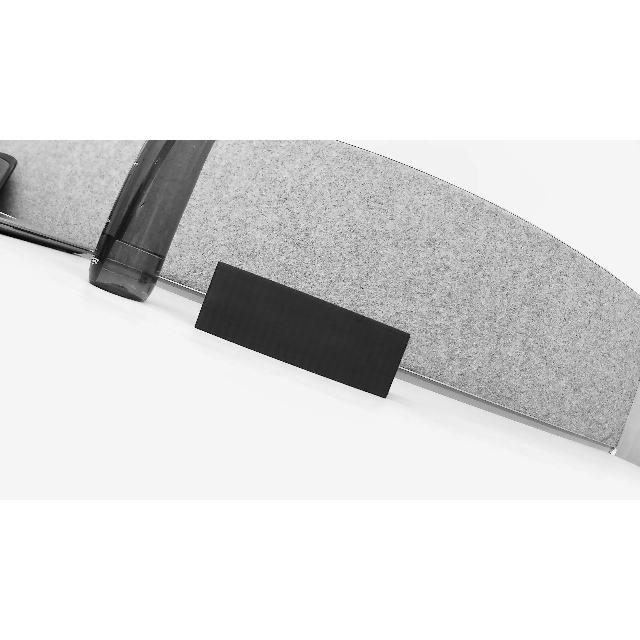targets: (192, 262, 412, 401), (88, 140, 214, 304)
